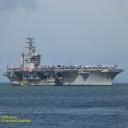Portanaves: (3, 36, 125, 87)
